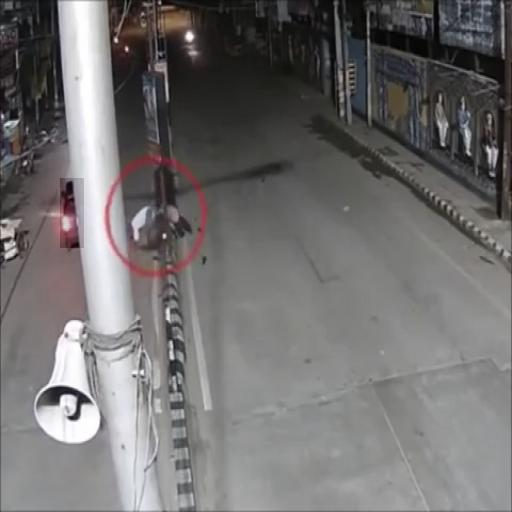小汽车: (60, 178, 84, 248)
